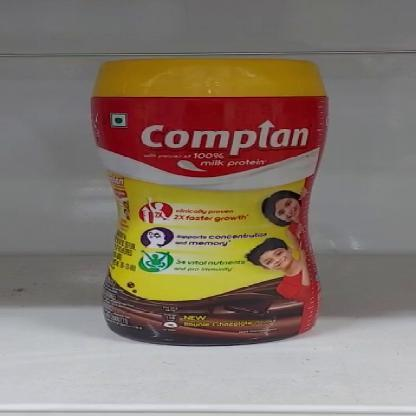Complan Royal Chocolate: (90, 58, 337, 346)
